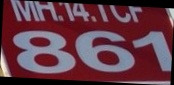character: (11, 30, 77, 75), (74, 29, 136, 73), (131, 29, 174, 73), (9, 1, 40, 22), (33, 1, 59, 22), (71, 2, 90, 22), (61, 2, 76, 21), (96, 3, 109, 23)
